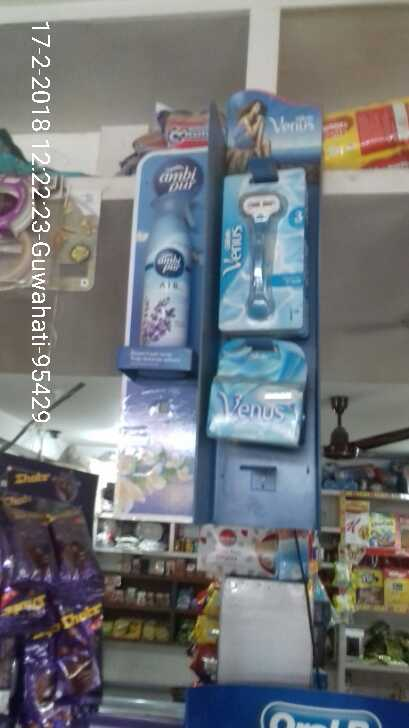beauty: (231, 181, 318, 334), (205, 341, 314, 462)
home: (133, 177, 201, 356)
